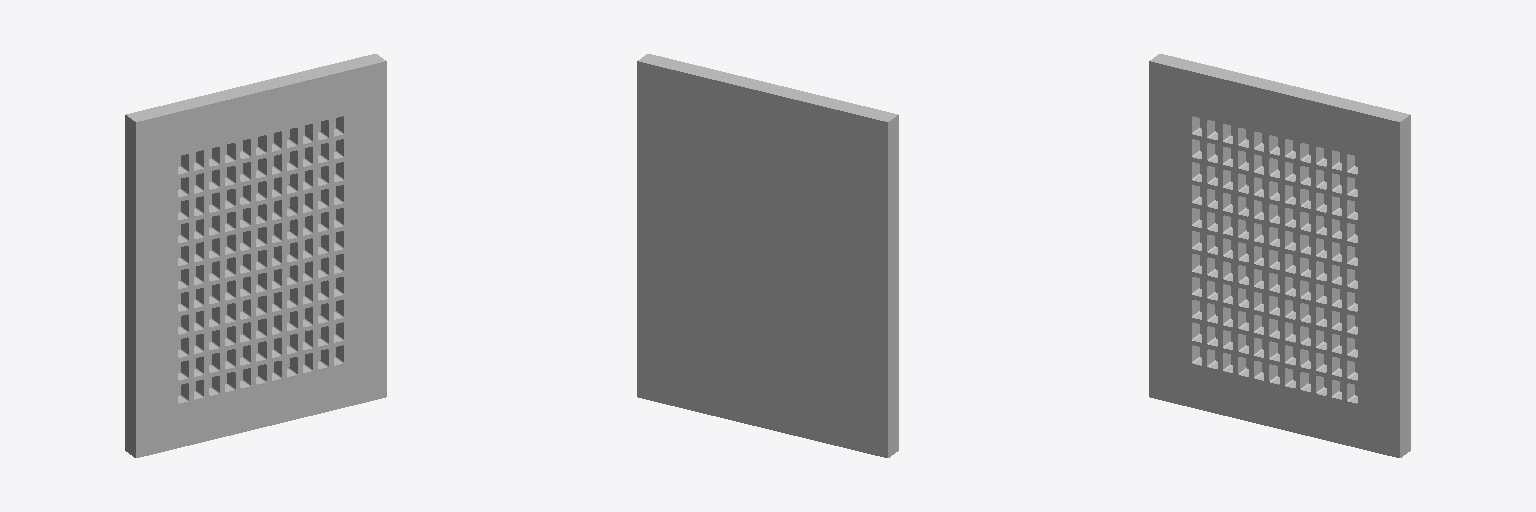
The model's file is array-sharp.obj.
3 views of the same model, side by side, from view 1: azimuth 30°, elevation 25°; view 2: azimuth 150°, elevation 25°; view 3: azimuth 330°, elevation 25° (orthographic).
Visible parts, largest first — view 1: mesh5, mesh1, mesh0; view 2: mesh4, mesh1, mesh0; view 3: mesh5, mesh3, mesh0.
Part boxes in pixels (left/top/right/bottom): mesh5: left=136, top=61, right=386, bottom=457; mesh1: left=125, top=115, right=135, bottom=457; mesh0: left=126, top=54, right=385, bottom=121; mesh4: left=637, top=61, right=887, bottom=457; mesh1: left=888, top=115, right=898, bottom=457; mesh0: left=638, top=54, right=897, bottom=121; mesh5: left=1149, top=61, right=1399, bottom=457; mesh3: left=1400, top=115, right=1410, bottom=457; mesh0: left=1150, top=54, right=1409, bottom=121.
Size of the model in its own units: 1.77 by 2.27 by 0.13.